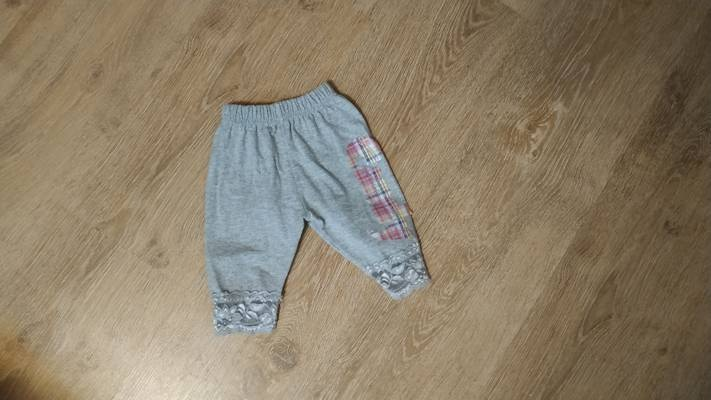Pants: (195, 85, 440, 348)
